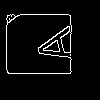A: (25, 25, 77, 69)
